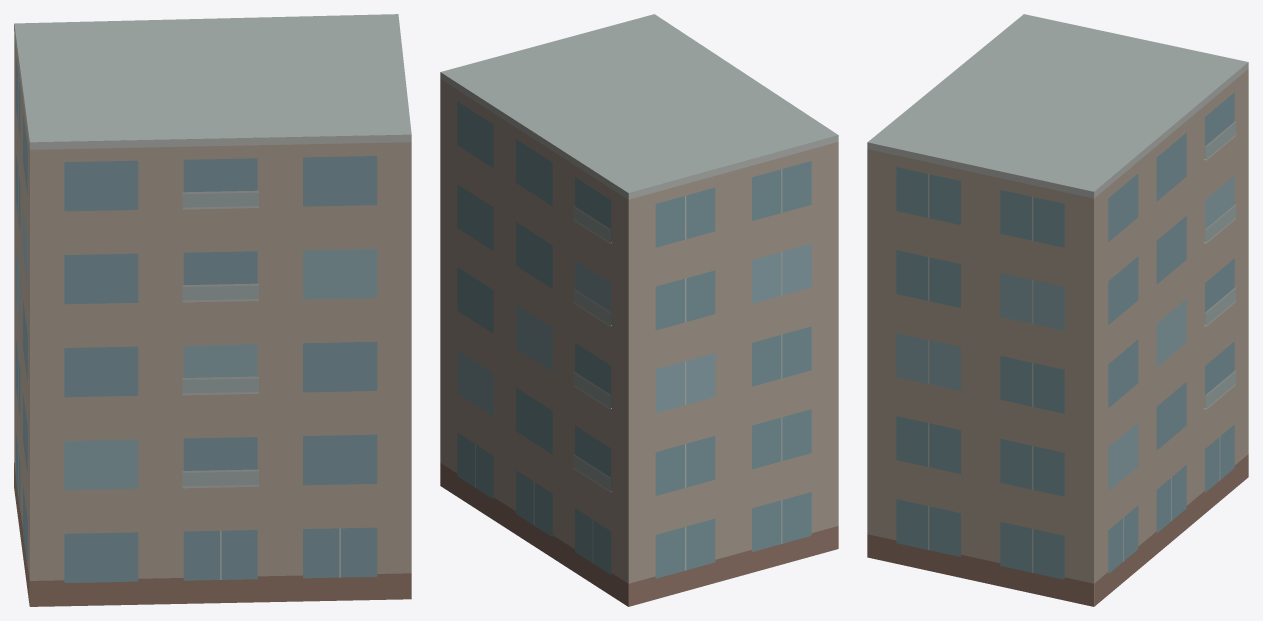
The model's file is survey-upis-32892555.glb.
3 views of the same model, side by side, from view 1: azimuth 30°, elevation 25°; view 2: azimuth 150°, elevation 25°; view 3: azimuth 270°, elevation 25° (orthographic). The views are drawn at different scales.
Visible parts, largest first — view 1: survey-upis-32892555.tmp; view 2: survey-upis-32892555.tmp; view 3: survey-upis-32892555.tmp.
Part boxes in pixels (bbox=[...]): survey-upis-32892555.tmp: bbox=[14, 14, 411, 606]; survey-upis-32892555.tmp: bbox=[440, 14, 838, 606]; survey-upis-32892555.tmp: bbox=[867, 14, 1248, 606].
Size of the model in its own units: 13.88 by 15.1 by 12.58.
